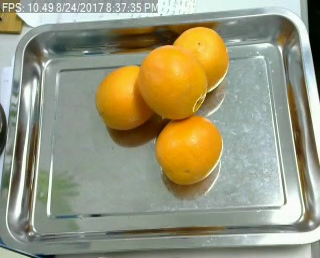Orange: (136, 45, 207, 118), (156, 112, 222, 184), (171, 24, 229, 94), (94, 65, 151, 130)
